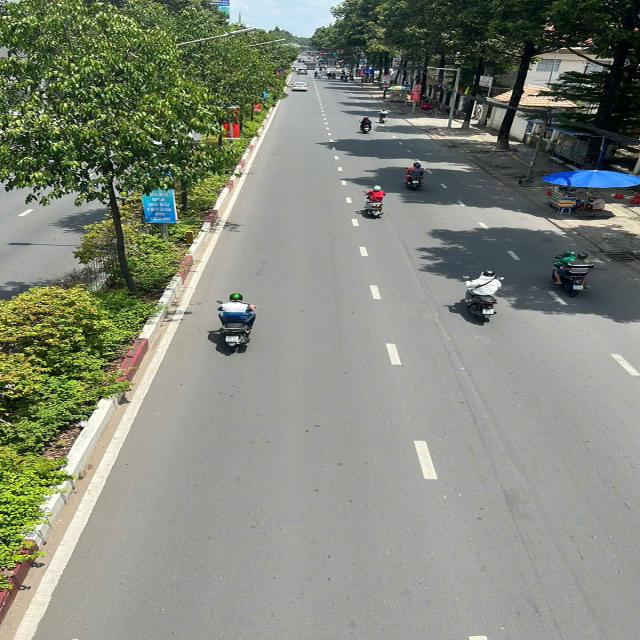car: (291, 82, 309, 92), (298, 68, 308, 74)
motobyte: (212, 291, 261, 354), (460, 265, 505, 323), (554, 245, 597, 296), (354, 181, 388, 222), (405, 156, 433, 194), (351, 113, 376, 137), (376, 108, 390, 124), (314, 71, 323, 81), (326, 71, 336, 80), (340, 75, 350, 83)
